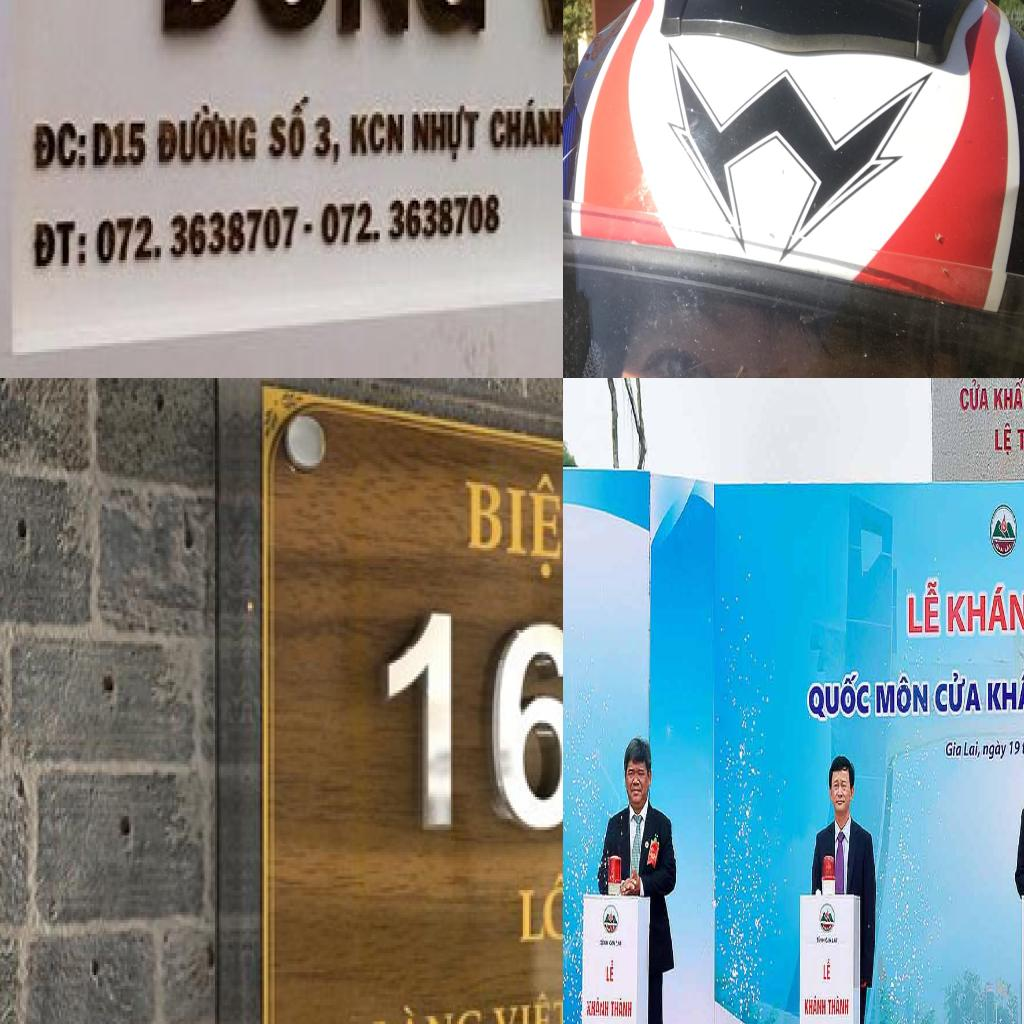text: (379, 597, 474, 849), (485, 605, 563, 848), (92, 195, 304, 284), (146, 0, 492, 46), (457, 452, 563, 591), (314, 183, 510, 257), (153, 100, 259, 165), (484, 88, 563, 162), (406, 100, 482, 171), (22, 206, 95, 275), (945, 579, 1024, 636), (514, 862, 563, 947), (264, 88, 314, 171), (28, 112, 90, 177), (91, 112, 151, 177), (371, 991, 488, 1024), (806, 670, 872, 724), (346, 103, 408, 159), (485, 986, 563, 1024), (872, 670, 931, 720), (933, 668, 984, 717), (905, 575, 943, 640), (985, 667, 1024, 714), (312, 109, 344, 165), (955, 378, 989, 413), (991, 378, 1024, 413), (993, 419, 1014, 459), (610, 992, 634, 1021), (982, 738, 1008, 763), (585, 996, 610, 1020), (803, 994, 827, 1018), (828, 994, 850, 1018), (962, 737, 981, 760), (944, 736, 962, 760), (604, 955, 617, 986), (822, 957, 832, 984), (1008, 737, 1021, 757), (994, 540, 1004, 555), (816, 934, 826, 944), (599, 938, 609, 948), (1004, 542, 1012, 554), (825, 935, 832, 945), (832, 935, 839, 945), (609, 938, 616, 948), (616, 938, 622, 948)
